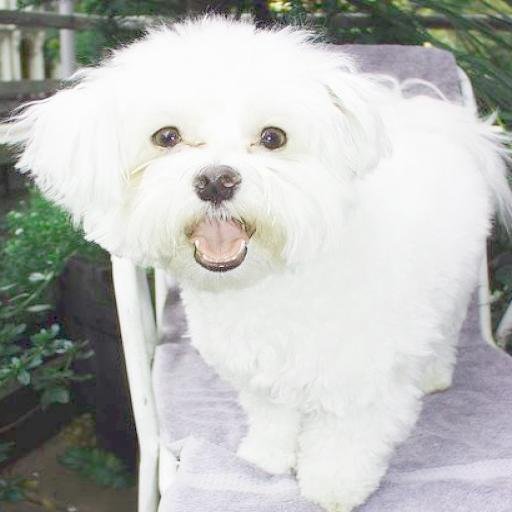dog_face: (11, 21, 370, 304)
